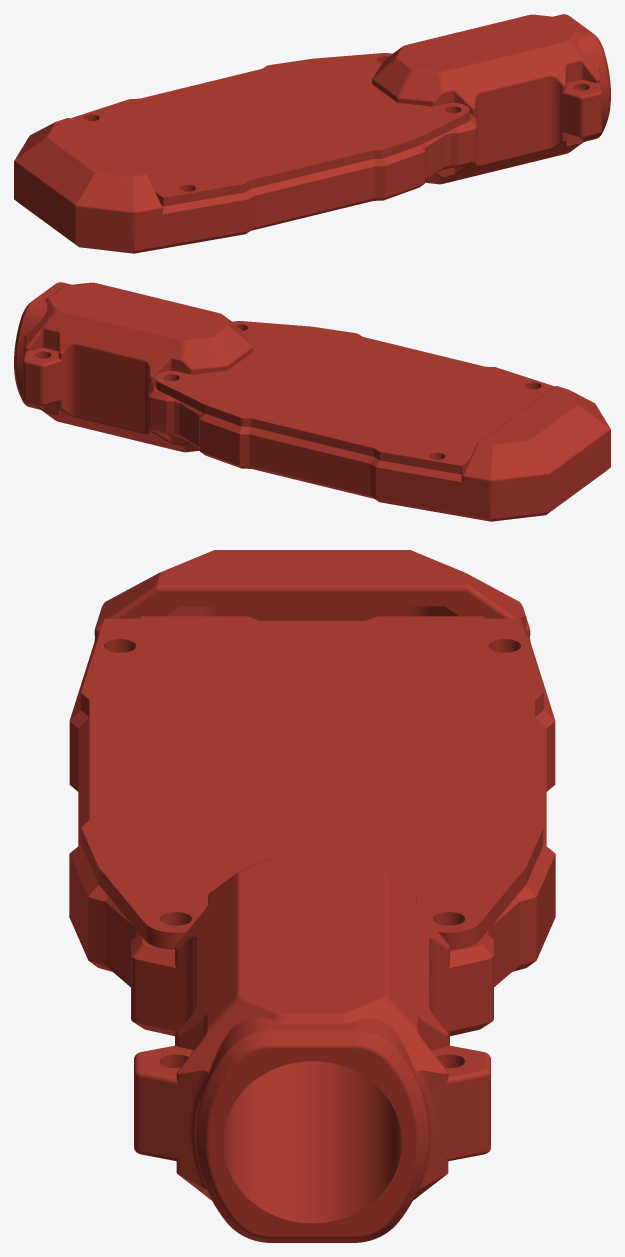
File: motor_mount_red.dae
The picture shows the model from 3 angles, top to bottom: view 1: azimuth 30°, elevation 25°; view 2: azimuth 150°, elevation 25°; view 3: azimuth 270°, elevation 25°; orthographic projection. The views are drawn at different scales.
Visible parts, largest first — view 1: node0, node2, node1; view 2: node0, node2, node1; view 3: node2, node0, node1.
Part boxes in pixels (x1,y1,x2,y2): node0: [14, 14, 610, 237]; node2: [55, 53, 469, 206]; node1: [14, 96, 610, 253]; node0: [14, 282, 610, 505]; node2: [155, 321, 554, 475]; node1: [14, 364, 610, 521]; node2: [81, 616, 543, 949]; node0: [69, 550, 555, 1144]; node1: [69, 758, 555, 1242].
Bounding box in the file's own units: 0.1116 × 0.0435 × 0.0221.
